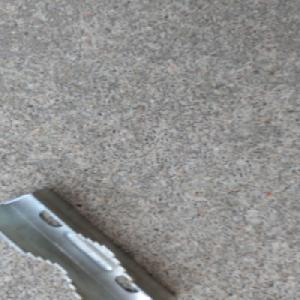ClampPart: (0, 187, 177, 300)
